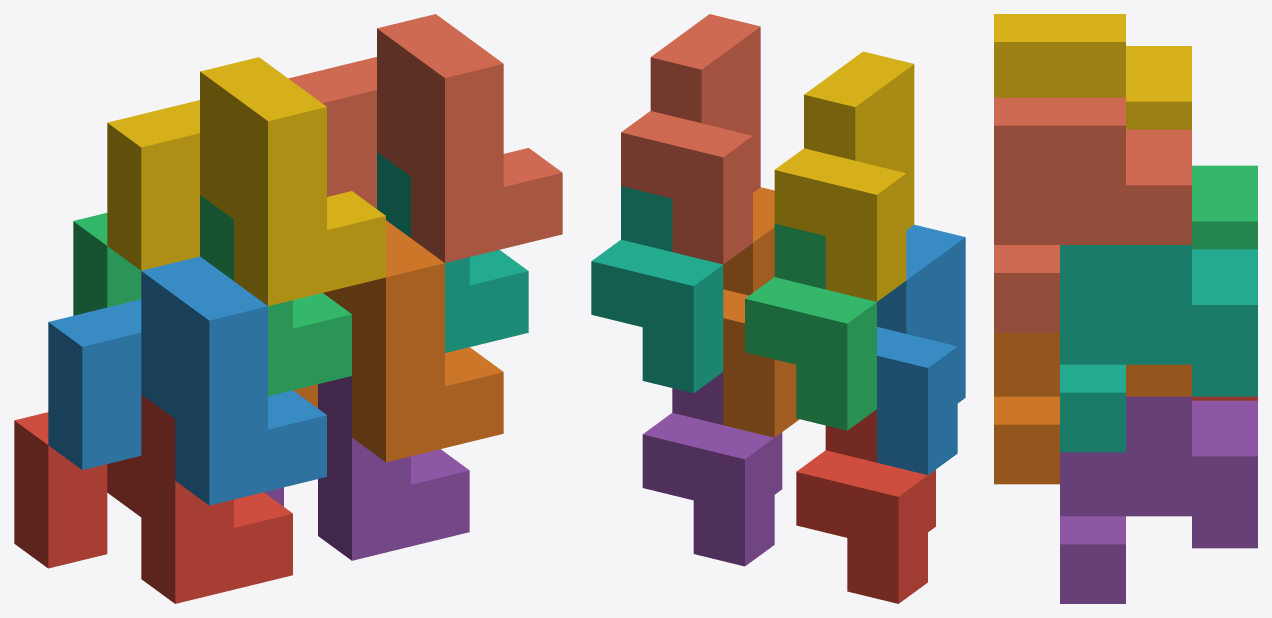
File: tiling.obj
3 views of the same model, side by side, from view 1: azimuth 30°, elevation 25°; view 2: azimuth 150°, elevation 25°; view 3: azimuth 270°, elevation 25° (orthographic). The views are drawn at different scales.
Parts seen in each view (by area): view 1: copy_1_domain_2, copy_1_domain_4, copy_1_domain_8, copy_1_domain_1, copy_1_domain_6, copy_1_domain_5, copy_1_domain_3, copy_1_domain_7; view 2: copy_1_domain_4, copy_1_domain_8, copy_1_domain_2, copy_1_domain_7, copy_1_domain_3, copy_1_domain_5, copy_1_domain_1, copy_1_domain_6; view 3: copy_1_domain_8, copy_1_domain_7, copy_1_domain_5, copy_1_domain_4, copy_1_domain_6, copy_1_domain_3.
Part boxes in pixels (left/top/right/bottom): copy_1_domain_2: left=48, top=256, right=326, bottom=505; copy_1_domain_4: left=107, top=57, right=385, bottom=306; copy_1_domain_8: left=288, top=14, right=562, bottom=262; copy_1_domain_1: left=14, top=394, right=292, bottom=603; copy_1_domain_6: left=293, top=220, right=503, bottom=462; copy_1_domain_5: left=264, top=376, right=469, bottom=560; copy_1_domain_3: left=73, top=195, right=351, bottom=396; copy_1_domain_7: left=377, top=152, right=528, bottom=352; copy_1_domain_4: left=774, top=51, right=914, bottom=301; copy_1_domain_8: left=621, top=14, right=760, bottom=264; copy_1_domain_2: left=877, top=224, right=965, bottom=474; copy_1_domain_7: left=591, top=186, right=723, bottom=393; copy_1_domain_3: left=745, top=223, right=876, bottom=430; copy_1_domain_5: left=642, top=372, right=782, bottom=566; copy_1_domain_1: left=796, top=409, right=935, bottom=603; copy_1_domain_6: left=723, top=187, right=799, bottom=437; copy_1_domain_8: left=994, top=97, right=1191, bottom=332; copy_1_domain_7: left=1060, top=245, right=1257, bottom=452; copy_1_domain_5: left=1060, top=396, right=1257, bottom=603; copy_1_domain_4: left=994, top=14, right=1191, bottom=129; copy_1_domain_6: left=994, top=333, right=1191, bottom=484; copy_1_domain_3: left=1192, top=165, right=1257, bottom=249.
Size of the model in its own units: 7 by 8 by 4.
